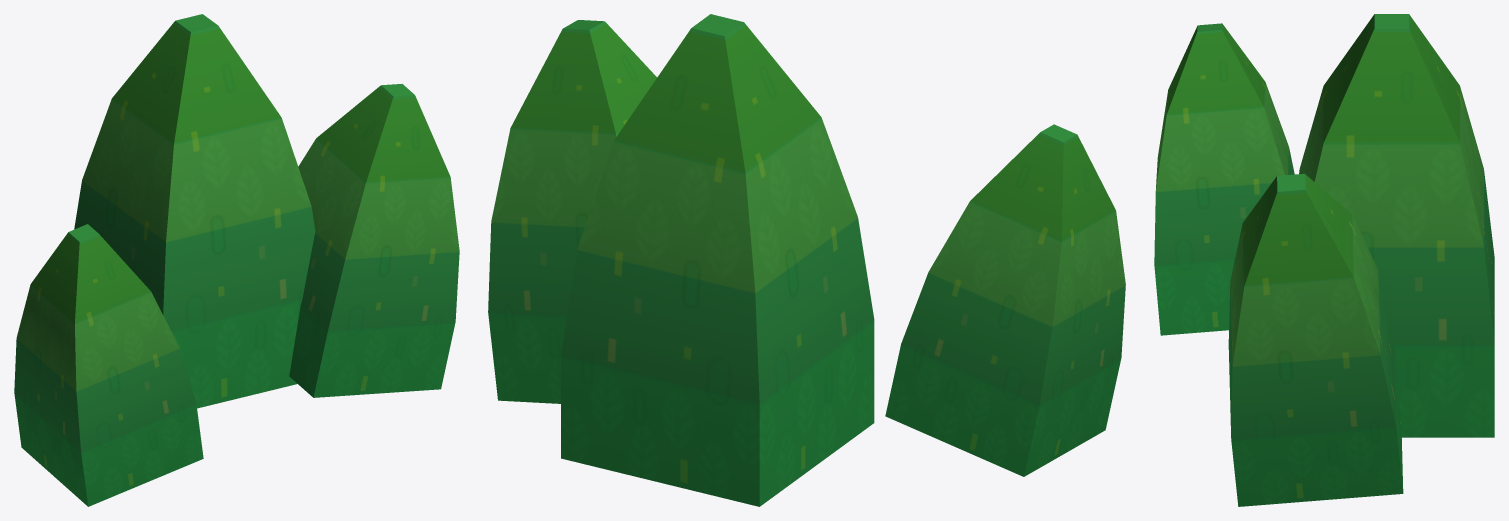
Rendered from BG_008_conifer.FBX.
The picture shows the model from 3 angles, left to right: view 1: azimuth 30°, elevation 25°; view 2: azimuth 150°, elevation 25°; view 3: azimuth 270°, elevation 25°; orthographic projection. The views are drawn at different scales.
Parts seen in each view (by area): view 1: BG_008_conifer; view 2: BG_008_conifer; view 3: BG_008_conifer.
Boxes of the visible parts, x1,y1,x2,y2 form: BG_008_conifer: (14,14,459,506); BG_008_conifer: (488,14,1125,506); BG_008_conifer: (1154,14,1494,506).
Bounding box in the file's own units: 479 × 392 × 308.
